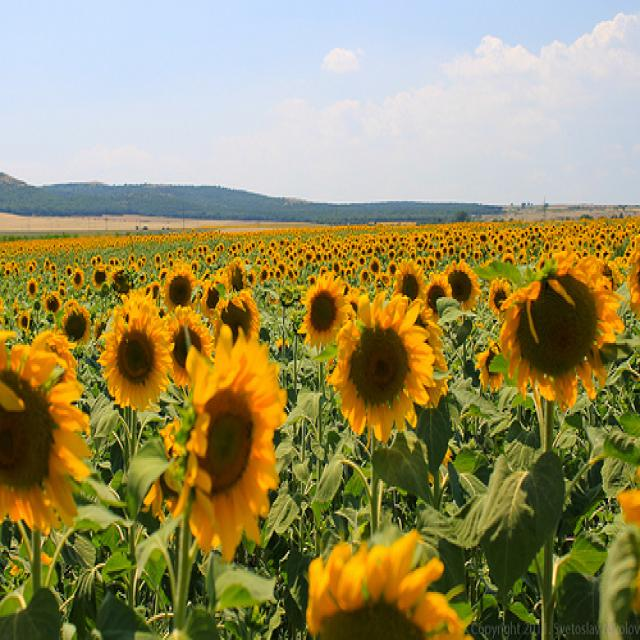sunflower: (172, 319, 293, 559), (0, 326, 86, 550), (297, 532, 473, 640), (504, 250, 613, 424), (338, 286, 438, 459), (99, 297, 169, 427), (298, 266, 346, 356), (205, 282, 263, 356), (446, 251, 482, 324), (390, 254, 428, 313), (162, 262, 194, 324), (59, 297, 92, 351), (476, 343, 510, 395), (223, 253, 253, 299), (490, 271, 517, 317), (43, 285, 70, 324), (21, 273, 44, 302), (91, 259, 109, 295), (369, 253, 384, 282), (70, 266, 84, 294), (256, 264, 270, 292), (478, 231, 488, 242)
